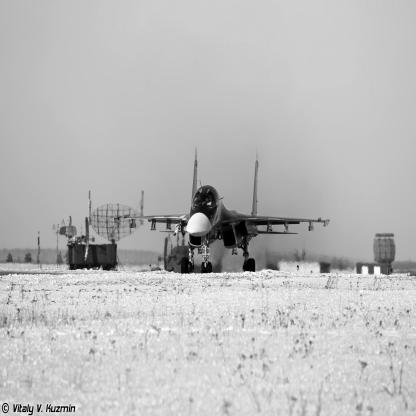Su34: (115, 146, 331, 275)
